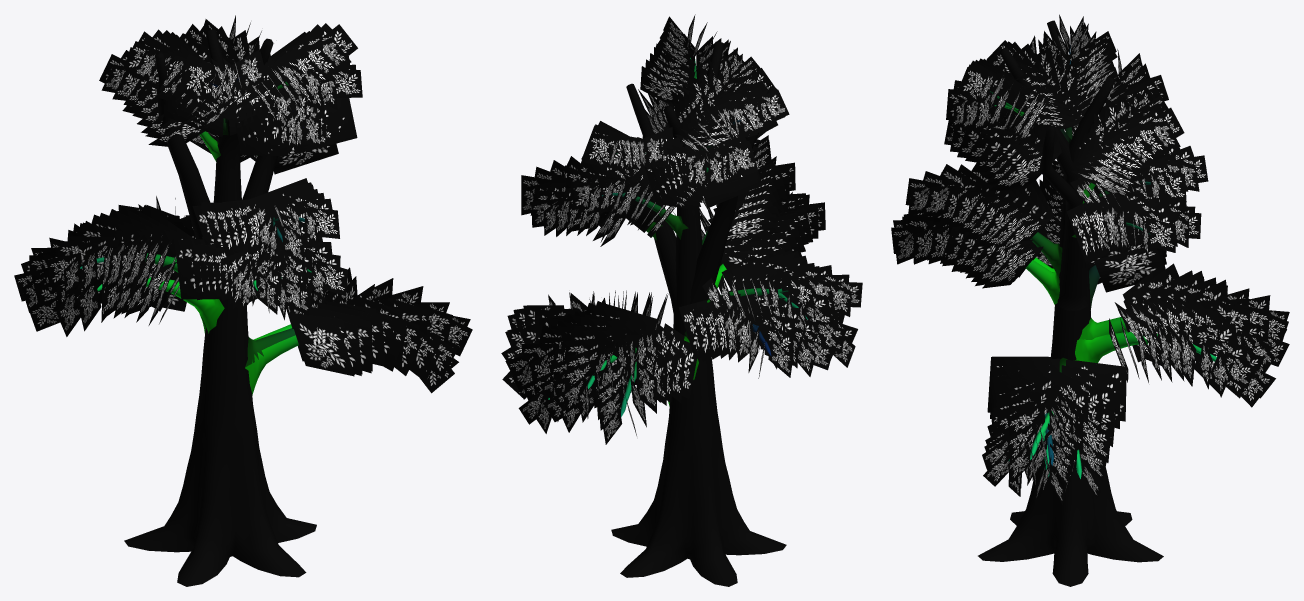
The model's file is drzewofinalne.fbx.
The picture shows the model from 3 angles, left to right: view 1: azimuth 30°, elevation 25°; view 2: azimuth 150°, elevation 25°; view 3: azimuth 270°, elevation 25°; orthographic projection. The views are drawn at different scales.
Parts seen in each view (by area): view 1: klist_1, bark10_0; view 2: klist_1, bark10_0; view 3: klist_1, bark10_0.
Part boxes in pixels (box(x1,y1,x2,y2)): klist_1: box(14, 15, 472, 393); bark10_0: box(80, 29, 316, 586); klist_1: box(501, 14, 862, 444); bark10_0: box(548, 41, 807, 586); klist_1: box(891, 14, 1289, 504); bark10_0: box(978, 20, 1216, 586).
Bounding box in the file's own units: 476 × 593 × 423.
Materials: 1 (1 with a texture image).
